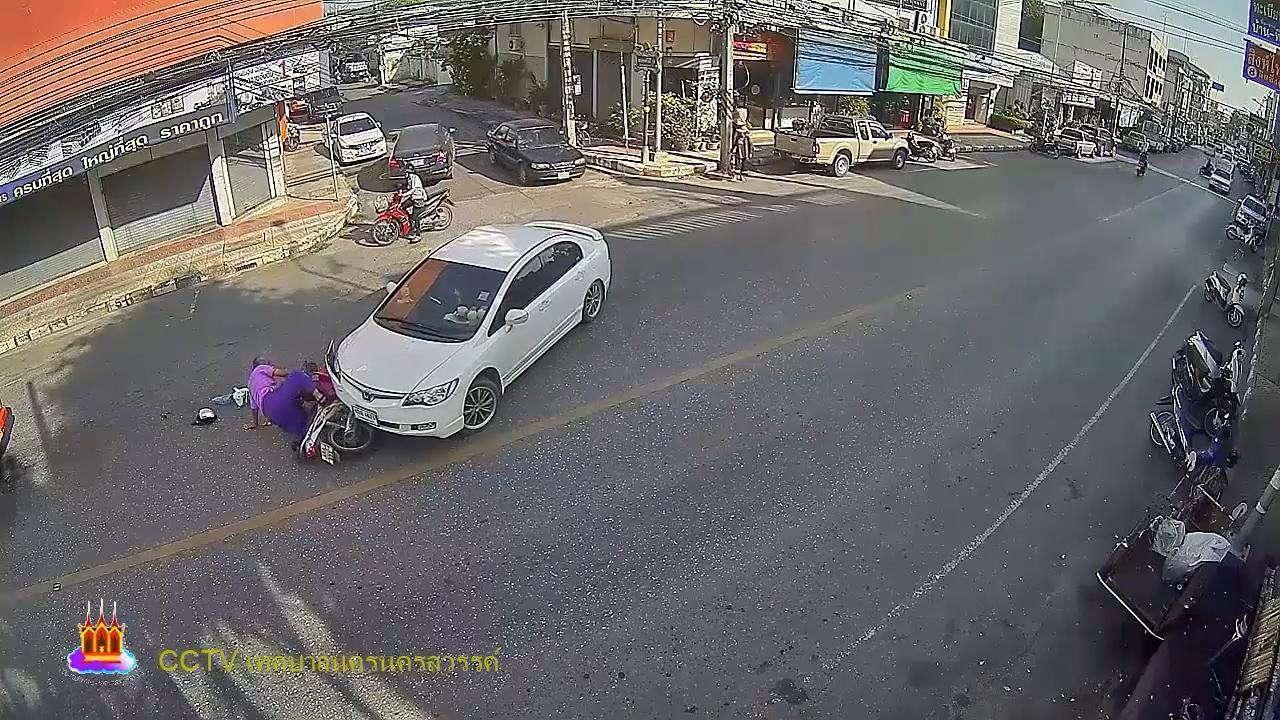accident: (246, 353, 326, 437)
